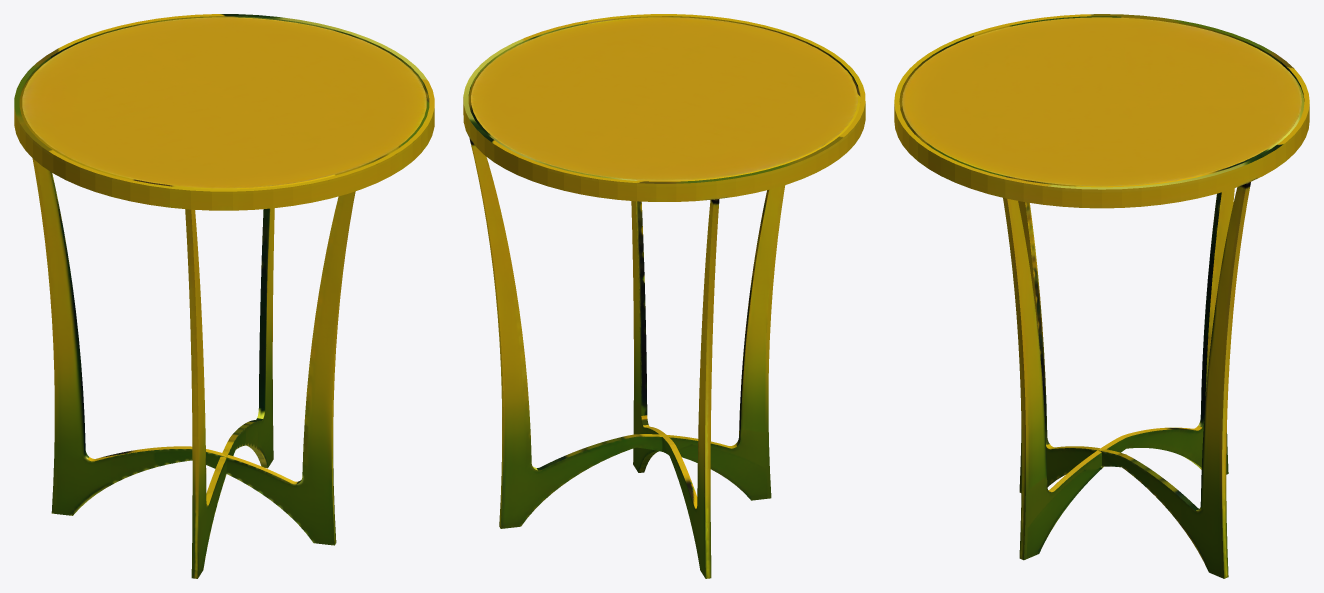
Rendered from edited_mesh.glb.
3 renders of one model, left to right at view 1: azimuth 30°, elevation 25°; view 2: azimuth 150°, elevation 25°; view 3: azimuth 270°, elevation 25°, orthographic. The views are drawn at different scales.
Visible parts, largest first — view 1: solid_001_wire; view 2: solid_001_wire; view 3: solid_001_wire.
Boxes of the visible parts, x1,y1,x2,y2 form: solid_001_wire: [14, 14, 434, 578]; solid_001_wire: [463, 14, 865, 578]; solid_001_wire: [894, 14, 1309, 578].
Bounding box in the file's own units: 1.23 × 1.38 × 1.23.
1 material, 1 textured.
